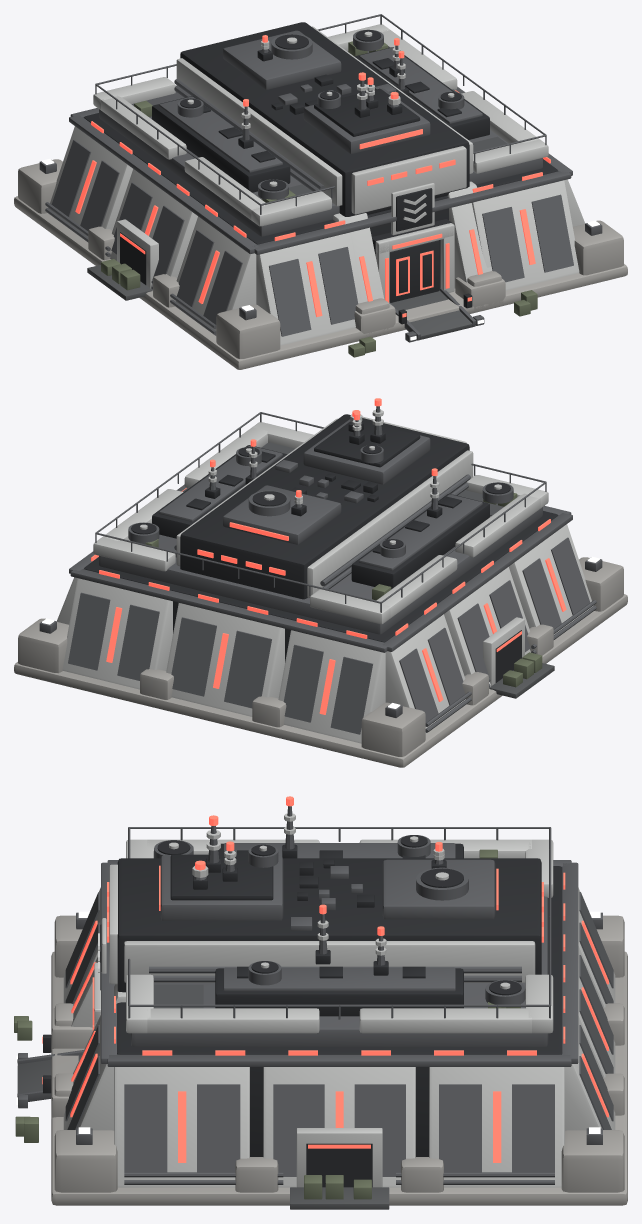
File: sb_caserne_t1.glb
3 renders of one model, top to bottom at view 1: azimuth 30°, elevation 25°; view 2: azimuth 150°, elevation 25°; view 3: azimuth 270°, elevation 25°, orthographic. The views are drawn at different scales.
Parts seen in each view (by area): view 1: SM_CB_BODY, SM_CB_LIGHTS; view 2: SM_CB_BODY, SM_CB_LIGHTS; view 3: SM_CB_BODY, SM_CB_LIGHTS.
Boxes of the visible parts, x1=… form: SM_CB_BODY: x1=14, y1=14, x2=627, y2=369; SM_CB_LIGHTS: x1=42, y1=35, x2=599, y2=340; SM_CB_BODY: x1=14, y1=406, x2=627, y2=767; SM_CB_LIGHTS: x1=42, y1=398, x2=599, y2=714; SM_CB_BODY: x1=14, y1=806, x2=627, y2=1209; SM_CB_LIGHTS: x1=16, y1=796, x2=608, y2=1162.
Bounding box in the file's own units: 26.74 × 12.26 × 25.94.
